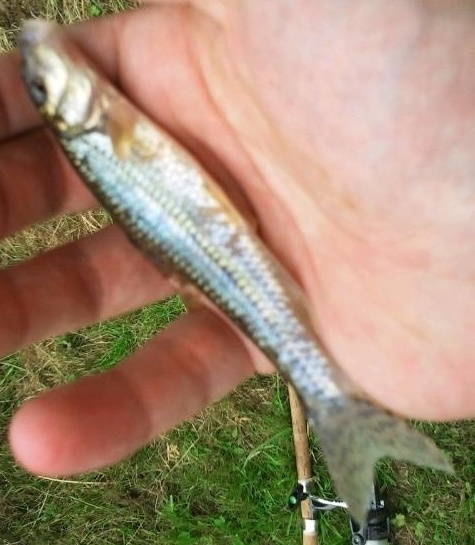Gobio gobio: (20, 20, 455, 525)
